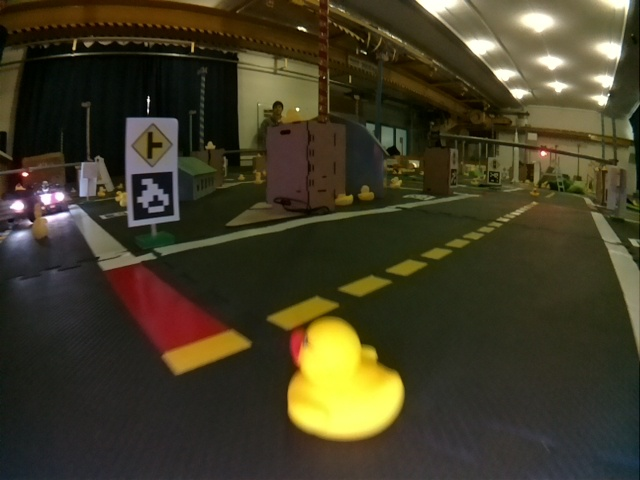Duckie: (288, 319, 402, 437), (32, 219, 48, 237), (359, 186, 375, 200), (336, 193, 353, 205), (205, 141, 215, 150), (530, 188, 539, 197), (97, 187, 106, 196), (120, 195, 128, 205), (115, 191, 123, 200), (390, 179, 399, 187), (240, 173, 247, 182), (254, 176, 262, 183)
Duckiebot: (2, 191, 33, 228), (33, 186, 67, 213)
Intersection sign: (132, 123, 175, 166)
QR code: (130, 173, 174, 221), (488, 171, 500, 183)
